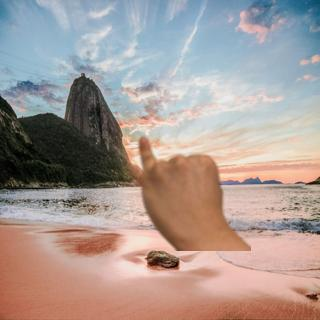FINE: (134, 134, 232, 240)
